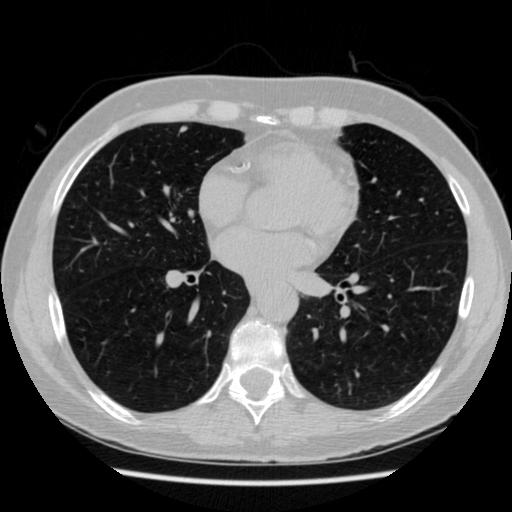nodule: (177, 124, 188, 135)
